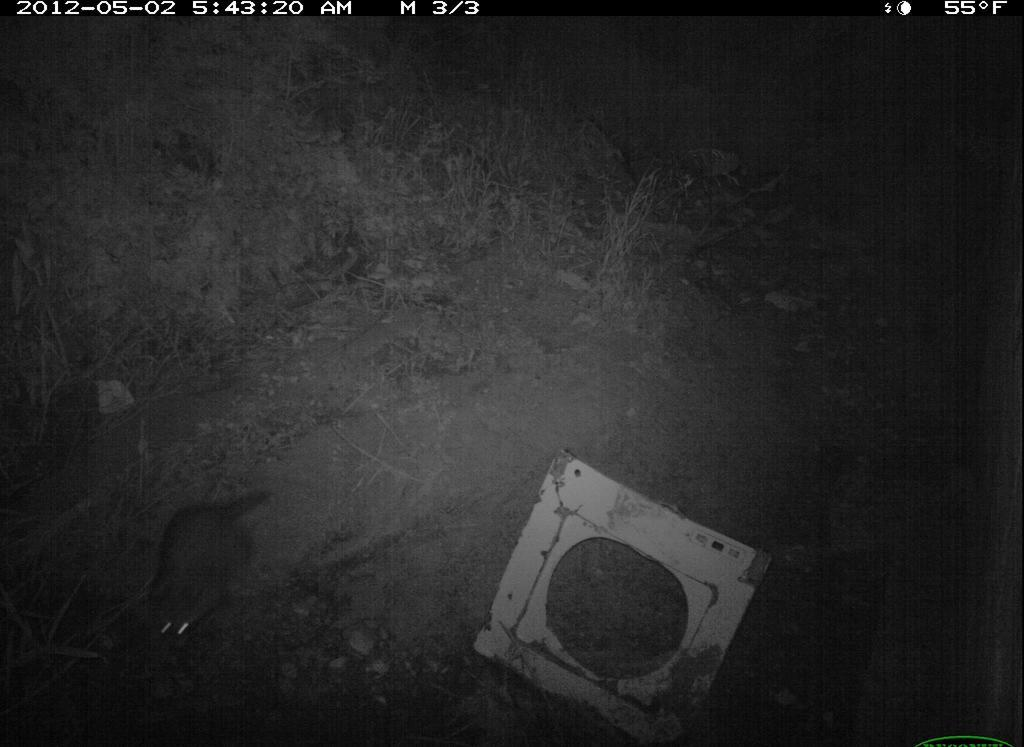raccoon: (130, 456, 281, 667)
